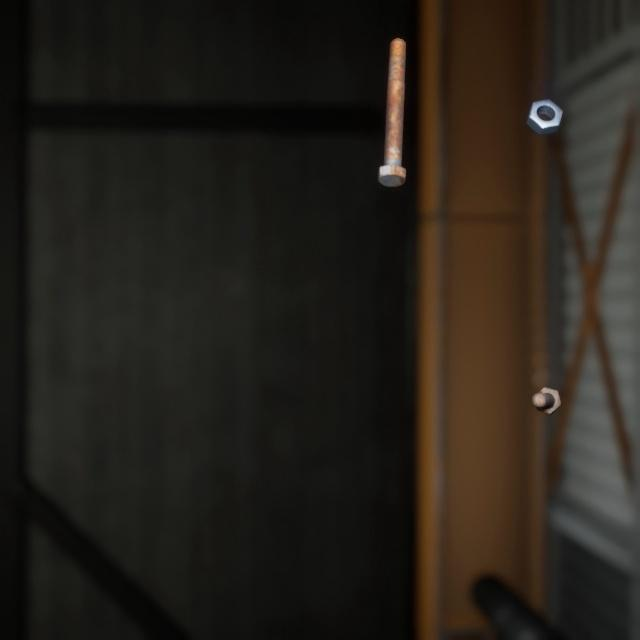bolt: (373, 23, 410, 180), (527, 363, 566, 399)
nut: (522, 83, 567, 127)
